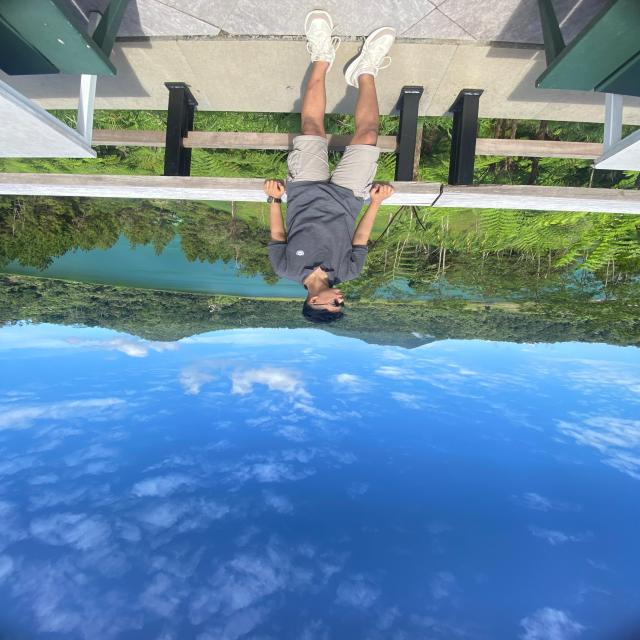nohelmet: (297, 276, 355, 330)
